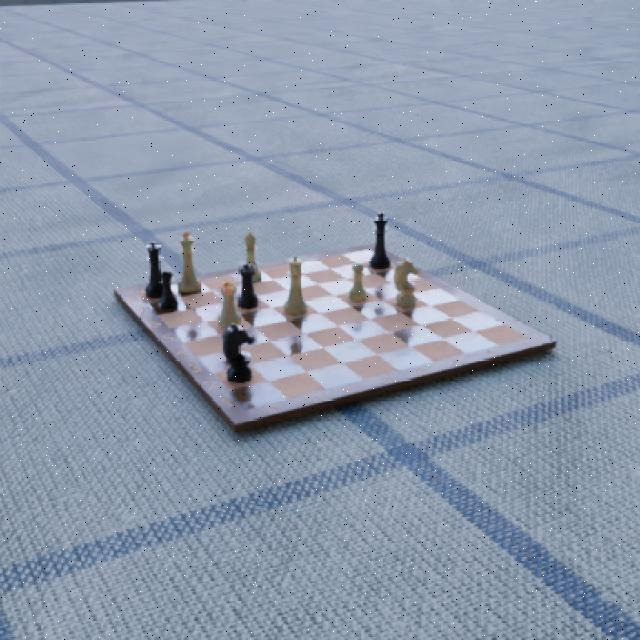black-king: (367, 212, 392, 272)
black-knight: (223, 322, 256, 382)
black-pawn: (160, 271, 175, 311)
black-queen: (144, 239, 164, 297)
black-rook: (236, 263, 259, 310)
white-bishop: (240, 229, 260, 282)
white-king: (175, 228, 201, 295)
white-knight: (394, 256, 419, 308)
white-pawn: (347, 260, 368, 305)
white-queen: (282, 256, 307, 319)
white-rook: (219, 280, 241, 328)
